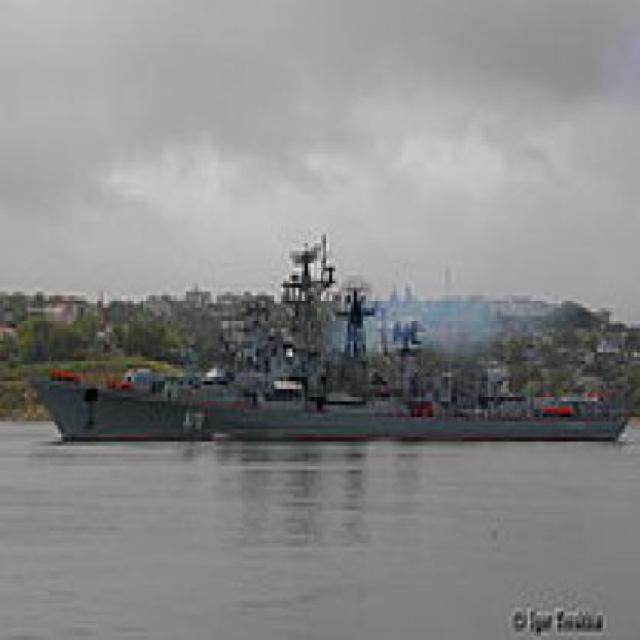warship2: (26, 228, 632, 463)
